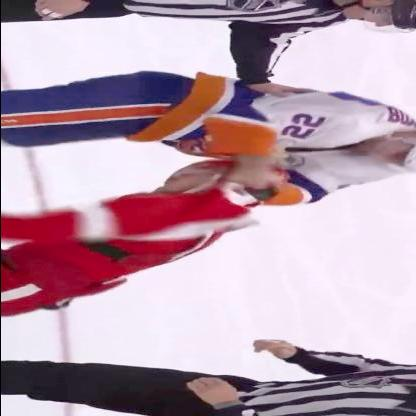voilence: (108, 70, 416, 290)
